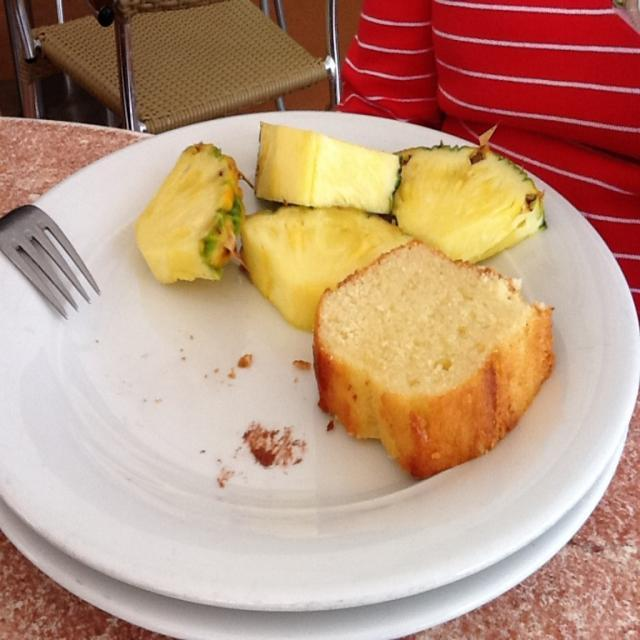Pineapple: (241, 203, 413, 334), (392, 122, 553, 261), (251, 114, 408, 229), (132, 143, 253, 288)
